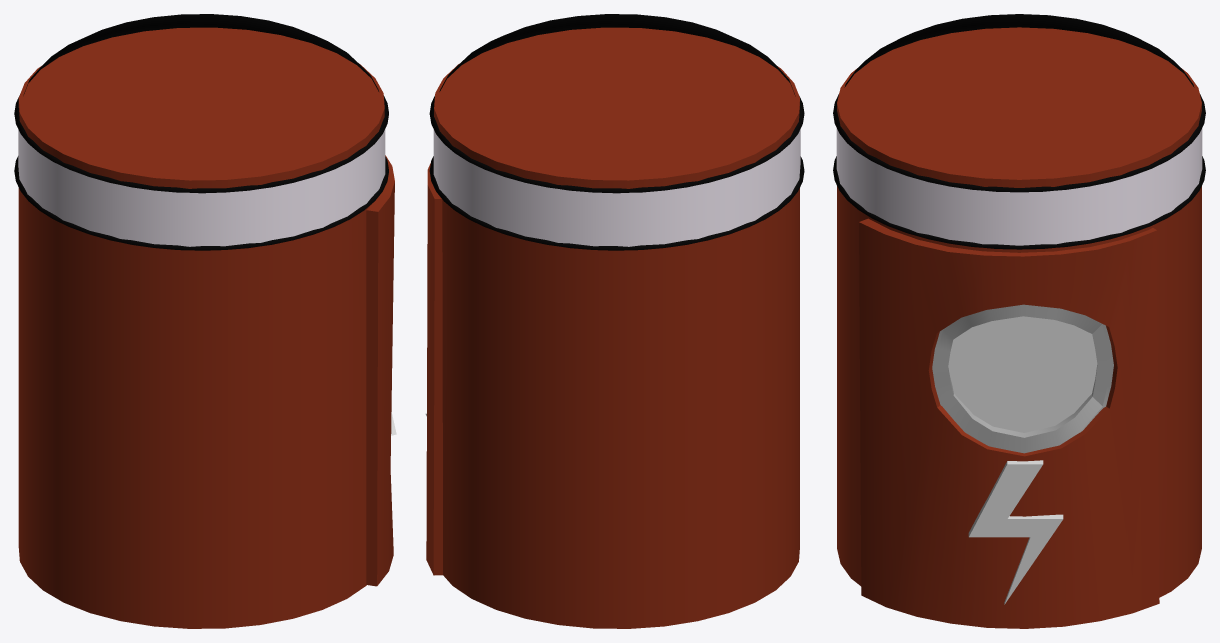
Rendered from booth.fbx.
3 views of the same model, side by side, from view 1: azimuth 30°, elevation 25°; view 2: azimuth 150°, elevation 25°; view 3: azimuth 270°, elevation 25° (orthographic).
Parts seen in each view (by area): view 1: box, box.001, Cylinder, door.001, Cylinder.001, rim, top cap; view 2: box, box.001, Cylinder, Cylinder.001, door.001, rim, top cap; view 3: door.001, box, box.001, Cylinder, glass, metal rim, Cylinder.001, lighting, rim, top cap, metal rim.001.
Part boxes in pixels (<box>): box: <box>18,27,384,628</box>; box.001: <box>18,28,384,628</box>; Cylinder: <box>18,129,385,246</box>; door.001: <box>366,155,394,586</box>; Cylinder.001: <box>18,131,384,246</box>; rim: <box>14,95,388,250</box>; top cap: <box>23,14,378,95</box>; box: <box>434,27,799,628</box>; box.001: <box>434,28,799,628</box>; Cylinder: <box>433,129,800,246</box>; Cylinder.001: <box>433,131,800,246</box>; door.001: <box>426,163,442,575</box>; rim: <box>429,96,804,250</box>; top cap: <box>439,14,795,96</box>; door.001: <box>859,218,1159,628</box>; box: <box>837,27,1201,597</box>; box.001: <box>837,27,1201,596</box>; Cylinder: <box>836,128,1202,245</box>; glass: <box>948,316,1097,432</box>; metal rim: <box>935,304,1110,453</box>; Cylinder.001: <box>836,129,1202,245</box>; lighting: <box>968,460,1063,604</box>; rim: <box>833,94,1205,249</box>; top cap: <box>844,14,1194,87</box>; metal rim.001: <box>932,322,1113,445</box>.
Size of the model in its own units: 774 by 1117 by 758.
